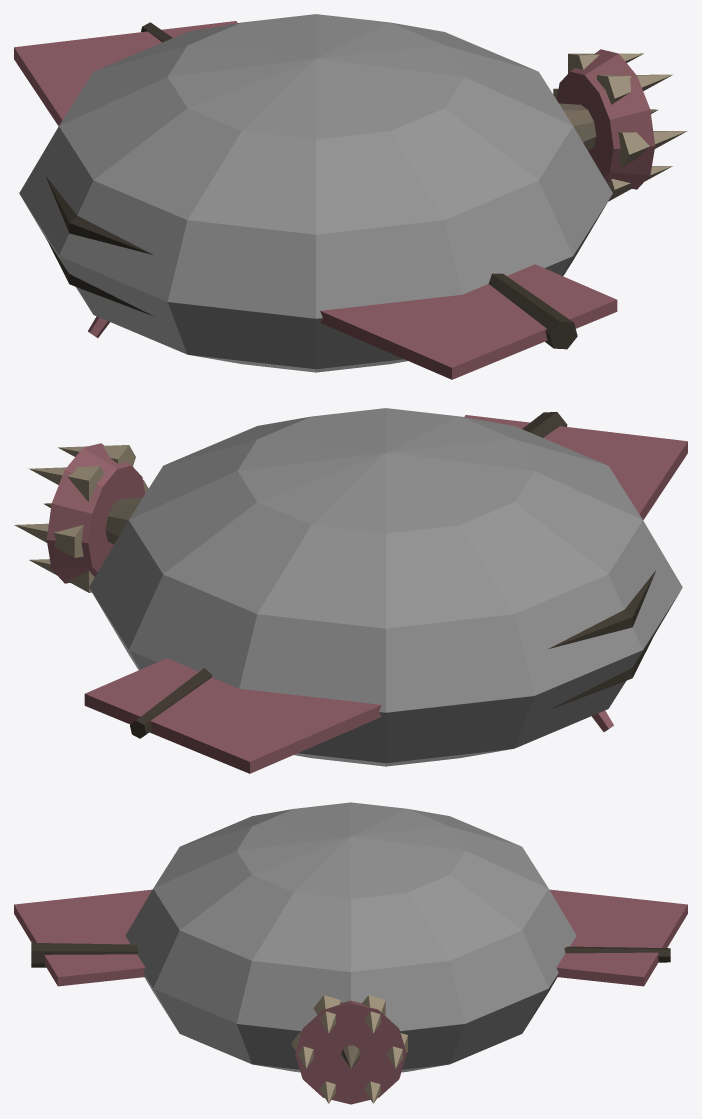
Rendered from bl_midge.glb.
3 renders of one model, top to bottom at view 1: azimuth 30°, elevation 25°; view 2: azimuth 150°, elevation 25°; view 3: azimuth 270°, elevation 25°, orthographic. The views are drawn at different scales.
Visible parts, largest first — view 1: body; view 2: body; view 3: body.
Part boxes in pixels (x1,y1,x2,y2): body: (14, 14, 687, 379); body: (14, 408, 687, 773); body: (14, 802, 687, 1104).
Bounding box in the file's own units: 21 × 9 × 26.56.
